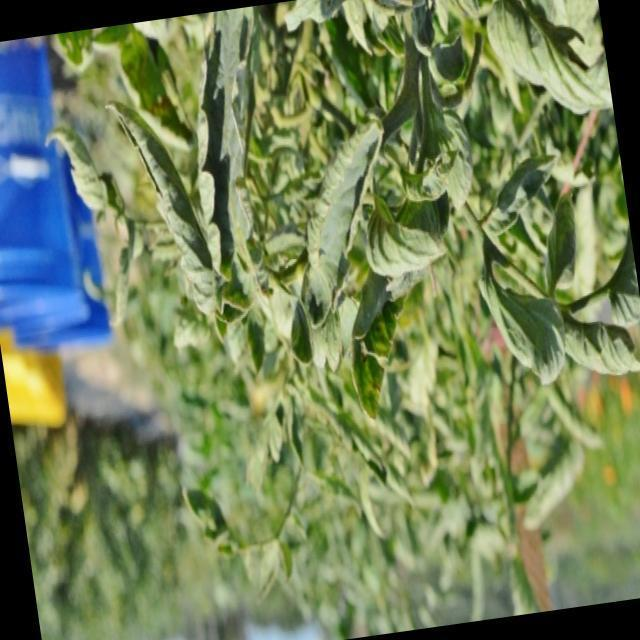Yellow Curl Virus: (172, 7, 284, 287), (284, 113, 409, 320), (118, 98, 222, 322), (478, 256, 573, 402), (482, 145, 565, 232)
